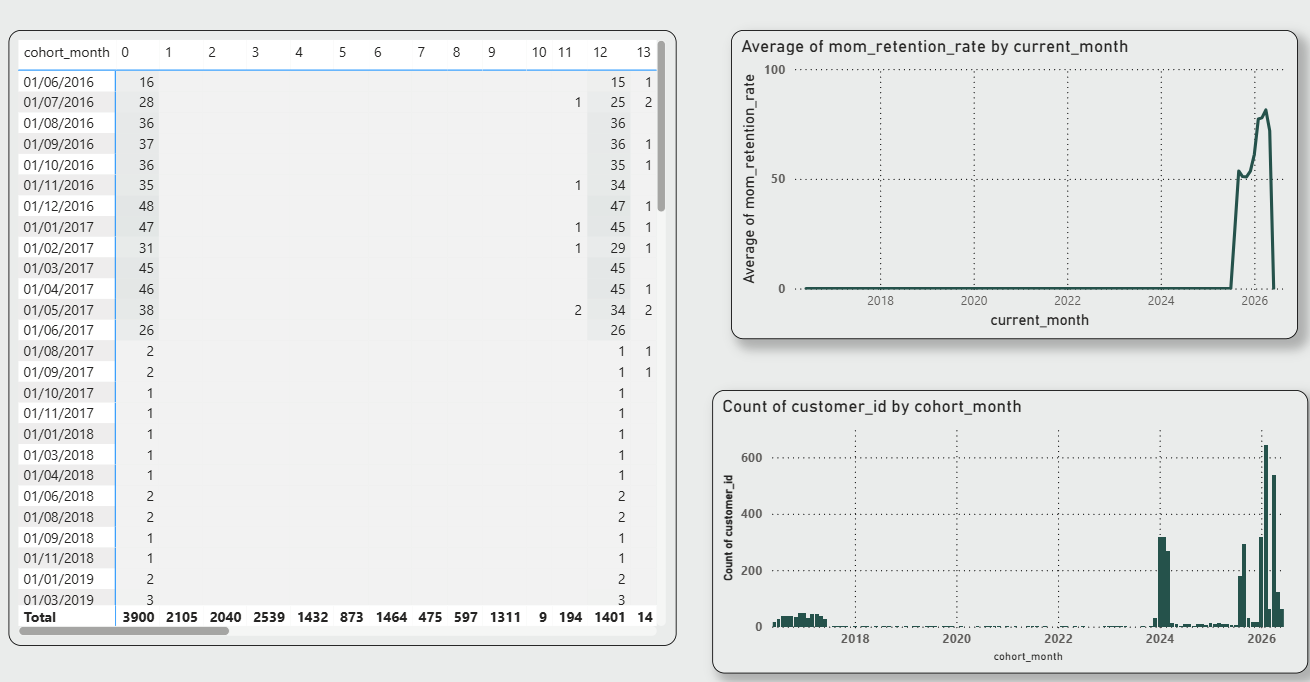

This screenshot's page, from the dashboard's own definition file:
{"tool":"powerbi","page":{"name":"Customer Analytics","canvas":[1280,720],"ordinal":1},"visuals":[{"type":"pivotTable","fields":{"Columns":["public view_cohort_retention.cohort_index"],"Values":["Count(public view_cohort_retention.customer_id)"],"Rows":["public view_cohort_retention.cohort_month"]},"box":[12.6,39.1,644.9,594.6],"z":0},{"type":"lineChart","fields":{"Y":["Avg(public view_mom_retention.mom_retention_rate)"],"Category":["public view_mom_retention.current_month"]},"box":[709.1,39.1,547.2,298.7],"z":1000},{"type":"clusteredColumnChart","fields":{"Y":["Count(public view_cohort_retention.customer_id)"],"Category":["public view_cohort_retention.cohort_month"]},"box":[690.9,386.7,575.1,273.6],"z":2000}]}

Visuals, with their boxes on the page's 1280x720 design canvas (x1, y1, x2, y2). These are canvas units, not pixel positions in the 1310x682 screenshot, which may show the page scaled, cropped or inside an application window:
pivotTable - public view_cohort_retention.cohort_index x Count(public view_cohort_retention.customer_id): pyautogui.locateOnScreen(13, 39, 658, 634)
lineChart - Avg(public view_mom_retention.mom_retention_rate) x public view_mom_retention.current_month: pyautogui.locateOnScreen(709, 39, 1256, 338)
clusteredColumnChart - Count(public view_cohort_retention.customer_id) x public view_cohort_retention.cohort_month: pyautogui.locateOnScreen(691, 387, 1266, 660)
